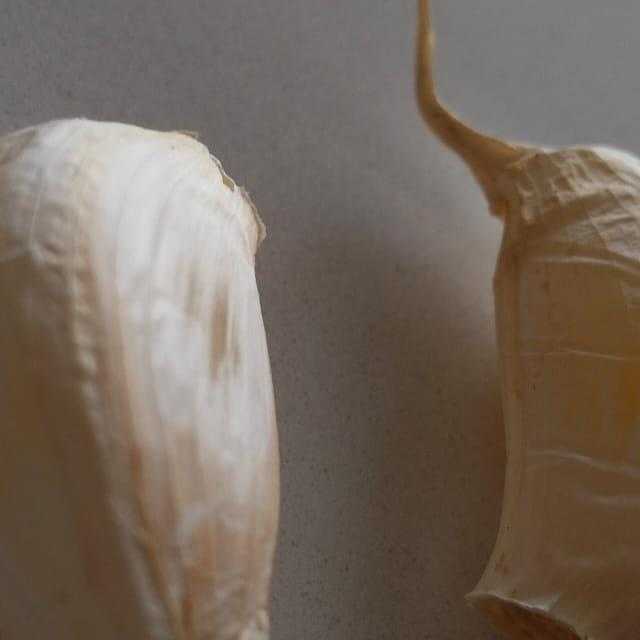garlic: (0, 50, 395, 640), (383, 16, 640, 640)
